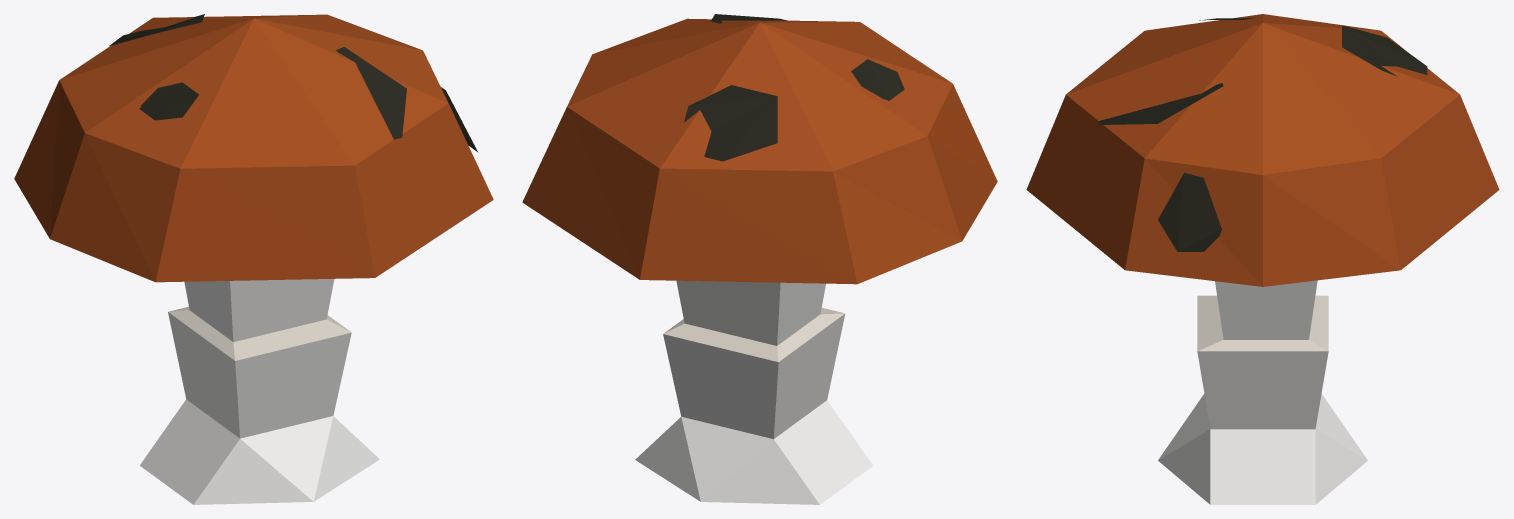
The model's file is obj_mushroom_4_0.obj.
3 renders of one model, left to right at view 1: azimuth 30°, elevation 25°; view 2: azimuth 150°, elevation 25°; view 3: azimuth 270°, elevation 25°, orthographic. The views are drawn at different scales.
Size of the model in its own units: 0.5469 by 0.5703 by 0.5625.
